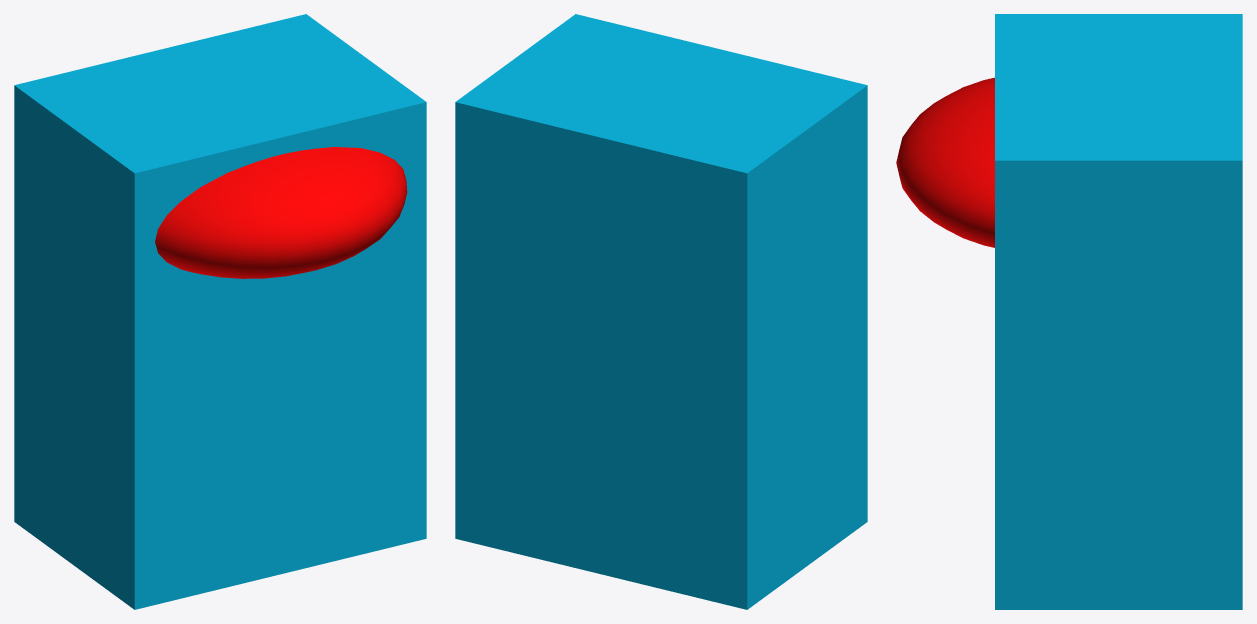
The model's file is Player.FBX.
3 views of the same model, side by side, from view 1: azimuth 30°, elevation 25°; view 2: azimuth 150°, elevation 25°; view 3: azimuth 270°, elevation 25° (orthographic). The views are drawn at different scales.
Parts seen in each view (by area): view 1: Box001, Sphere001; view 2: Box001; view 3: Box001, Sphere001.
Boxes of the visible parts, bbox=[...] form: Box001: bbox=[14, 14, 426, 609]; Sphere001: bbox=[155, 147, 407, 278]; Box001: bbox=[455, 14, 867, 609]; Box001: bbox=[995, 14, 1242, 609]; Sphere001: bbox=[896, 77, 994, 247].
Size of the model in its own units: 70 by 100 by 69.88.
